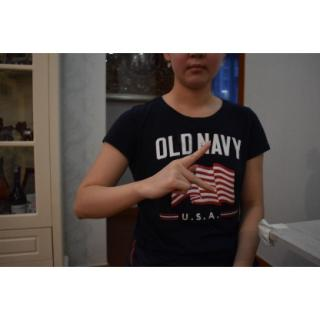DHAA: (144, 137, 219, 207)
